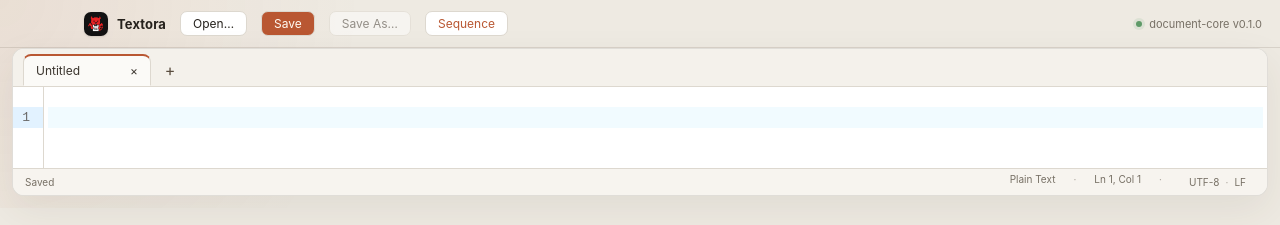
it: App open flow › opens a file and atomically replaces editor content and tab
This screenshot has width=1280, height=225.
Step 1. Click the button with class "open-button" → (214, 24), box [180, 11, 247, 36]
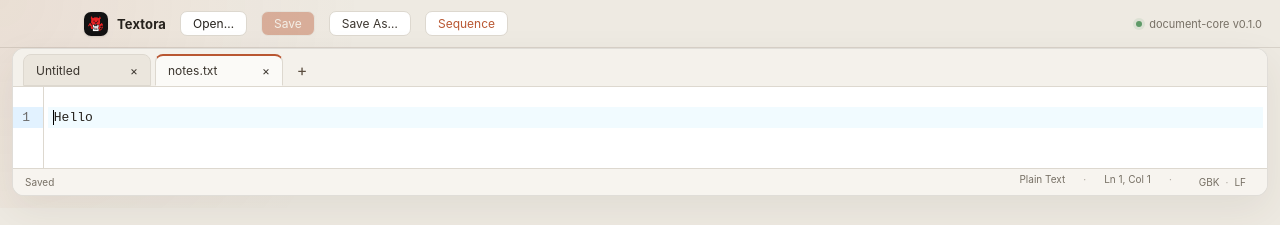
Check: the element with class "is-active" shows "notes.txt", box [156, 56, 253, 85]
Check: the text box labelled "Hello" is shown, box [48, 107, 1263, 128]
Check: the footer with class "statusbar" shows "GBK", box [1190, 173, 1255, 191]
